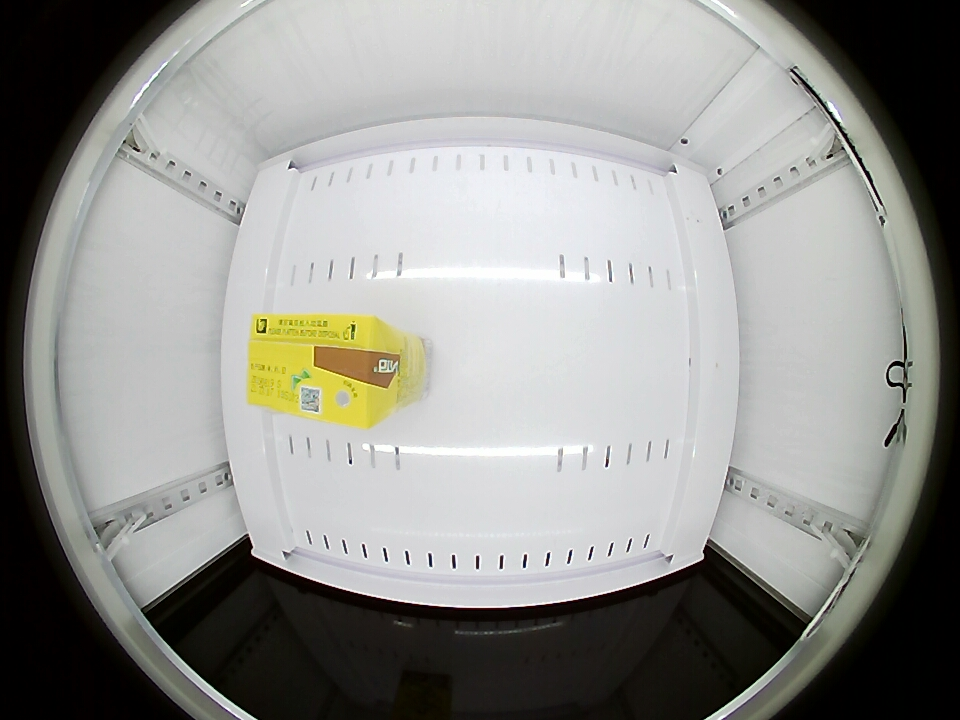weitaningmeng: (246, 311, 404, 428)
